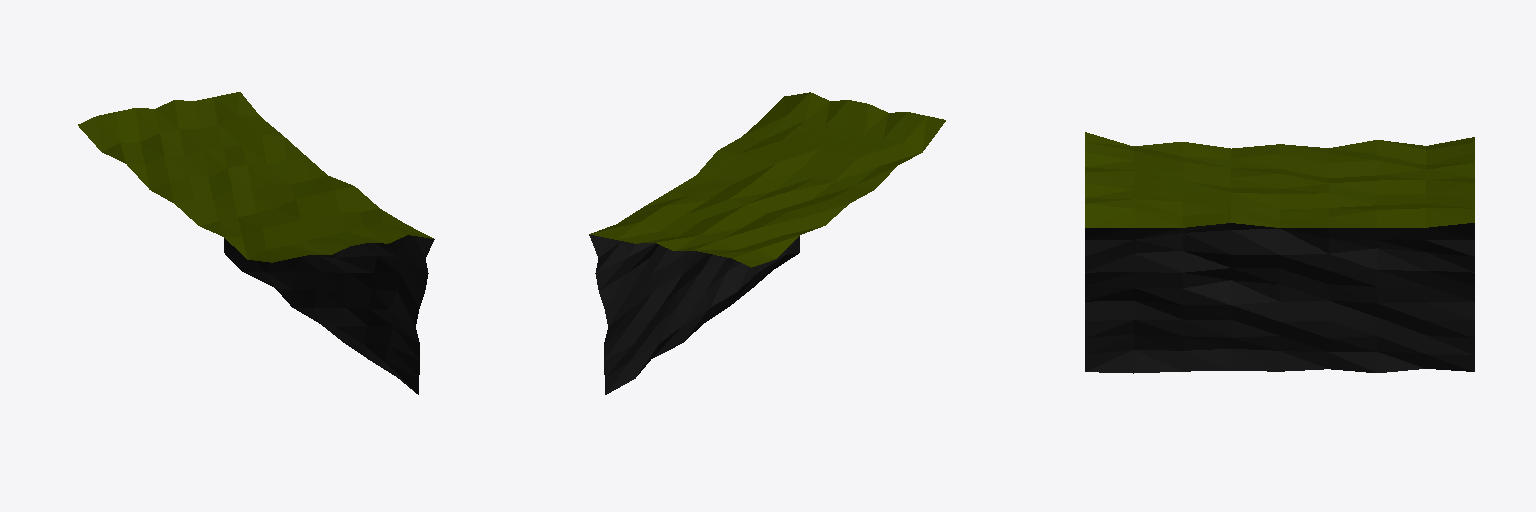
The model's file is Morro-02.obj.
3 views of the same model, side by side, from view 1: azimuth 30°, elevation 25°; view 2: azimuth 150°, elevation 25°; view 3: azimuth 270°, elevation 25° (orthographic).
Visible parts, largest first — view 1: Plane.001; view 2: Plane.001; view 3: Plane.001.
Boxes of the visible parts, box(x1,y1,x2,y2) form: Plane.001: box(78, 92, 434, 394); Plane.001: box(589, 92, 945, 394); Plane.001: box(1085, 132, 1474, 373).
Bounding box in the file's own units: 7.03 × 6.94 × 14.54.